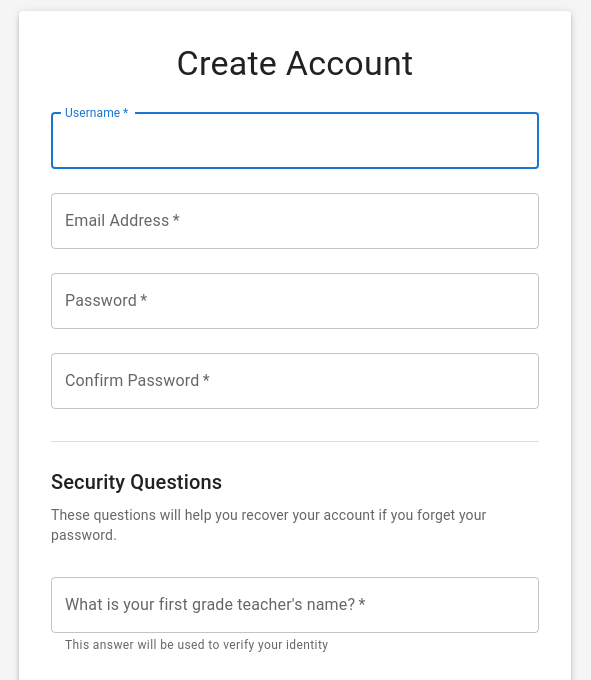
Register component › shows error when password is too short
Type "testuser" into the field labelled "Username *" at (295, 141), box 51,113 -> 539,169
Type "test@example.com" into the field labelled "Email Address *" at (295, 221), box 51,193 -> 539,249
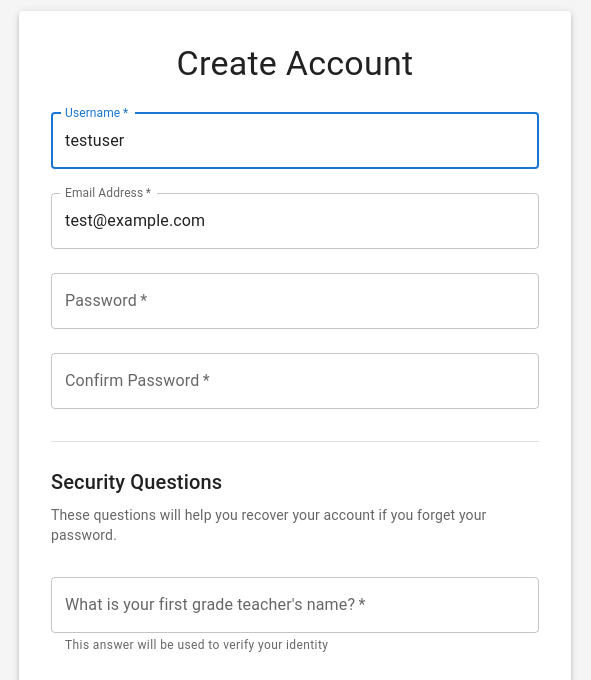
Type "12345" into the password field labelled "Password *" at (295, 301), box 51,273 -> 539,329
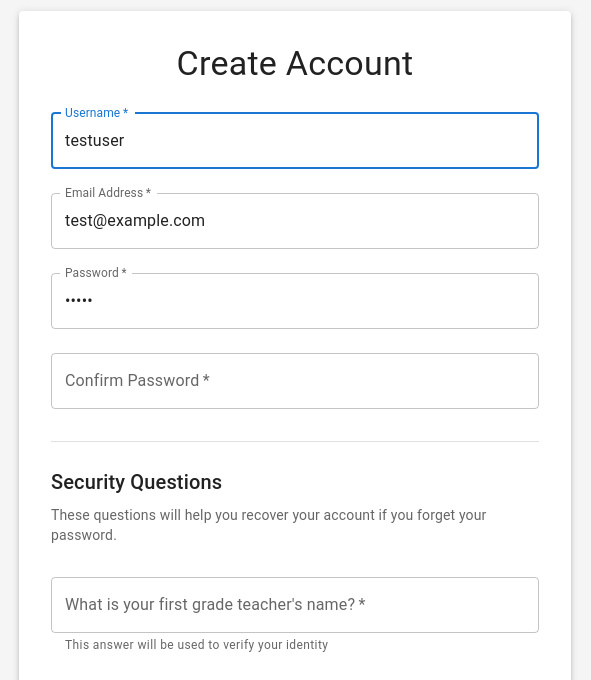
Type "12345" into the password field labelled "Confirm Password *" at (295, 381), box 51,353 -> 539,409
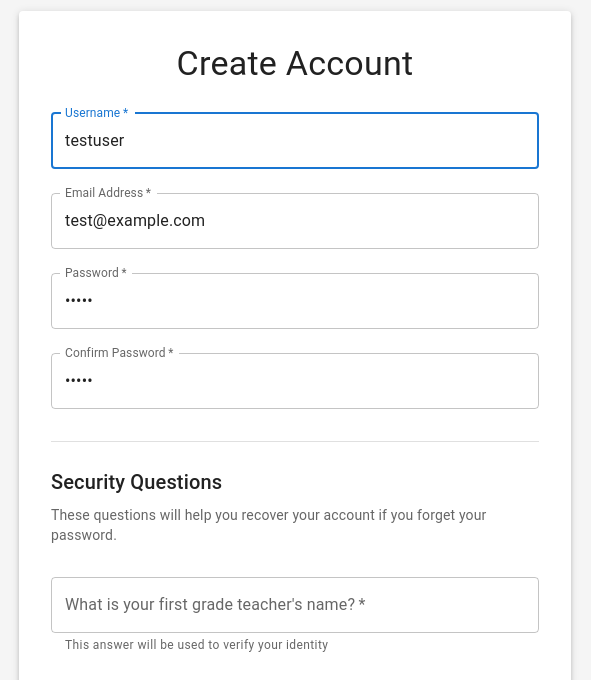
Type "Mrs. Smith" into the field labelled "What is your first grade teacher's name? *" at (295, 605), box 51,577 -> 539,633
(page scrolled)
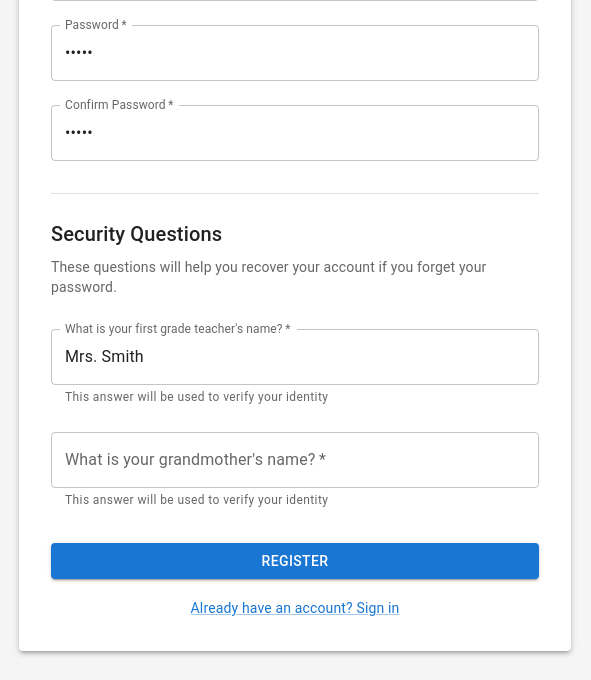
Type "Jane Doe" into the field labelled "What is your grandmother's name? *" at (295, 460), box 51,432 -> 539,488
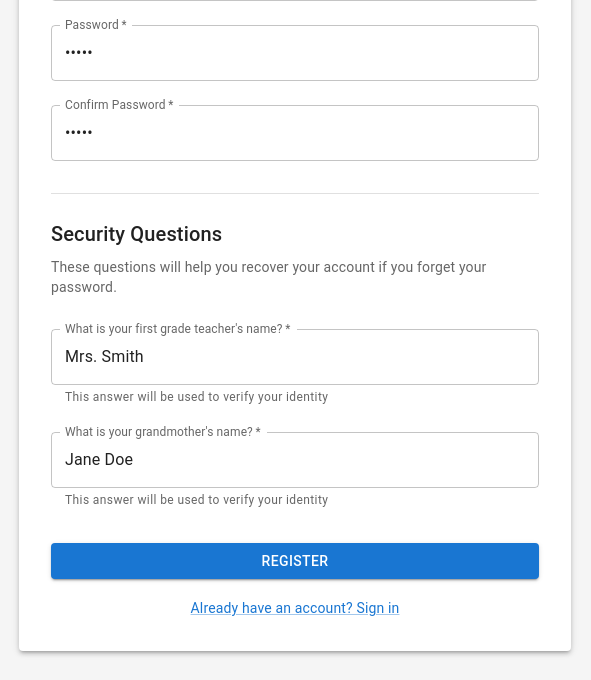
Click the button "Register" at (295, 561), box 51,543 -> 539,579
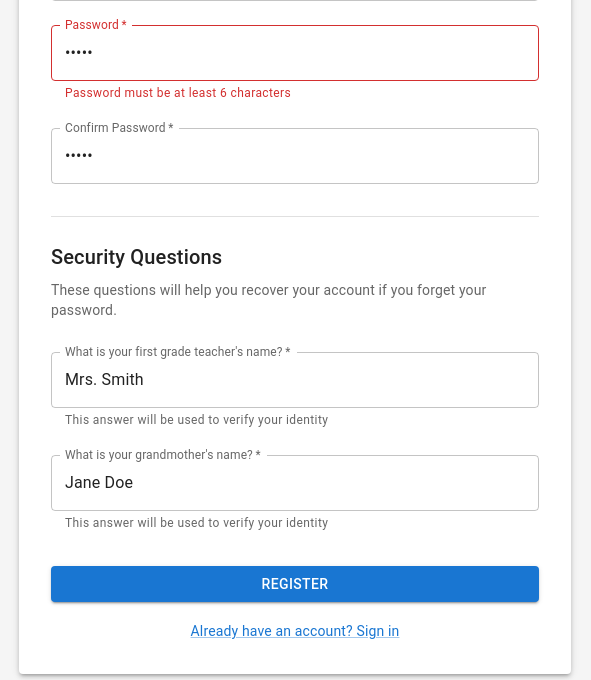
Now the text with test id "password-helper-text" reads "Password must be at least 6 characters", box 65,86 -> 291,100
